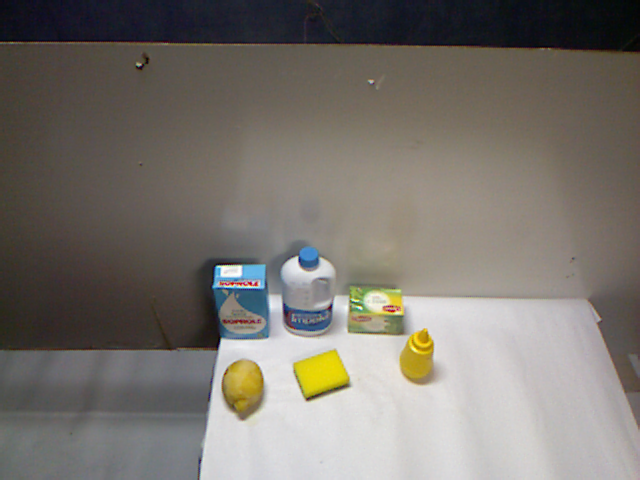cafe: (221, 274, 281, 349)
crema: (333, 291, 371, 346)
esponja: (306, 353, 357, 409)
greda: (210, 341, 303, 424)
mantequilla: (280, 303, 335, 337)
platoperro: (354, 316, 476, 426)
